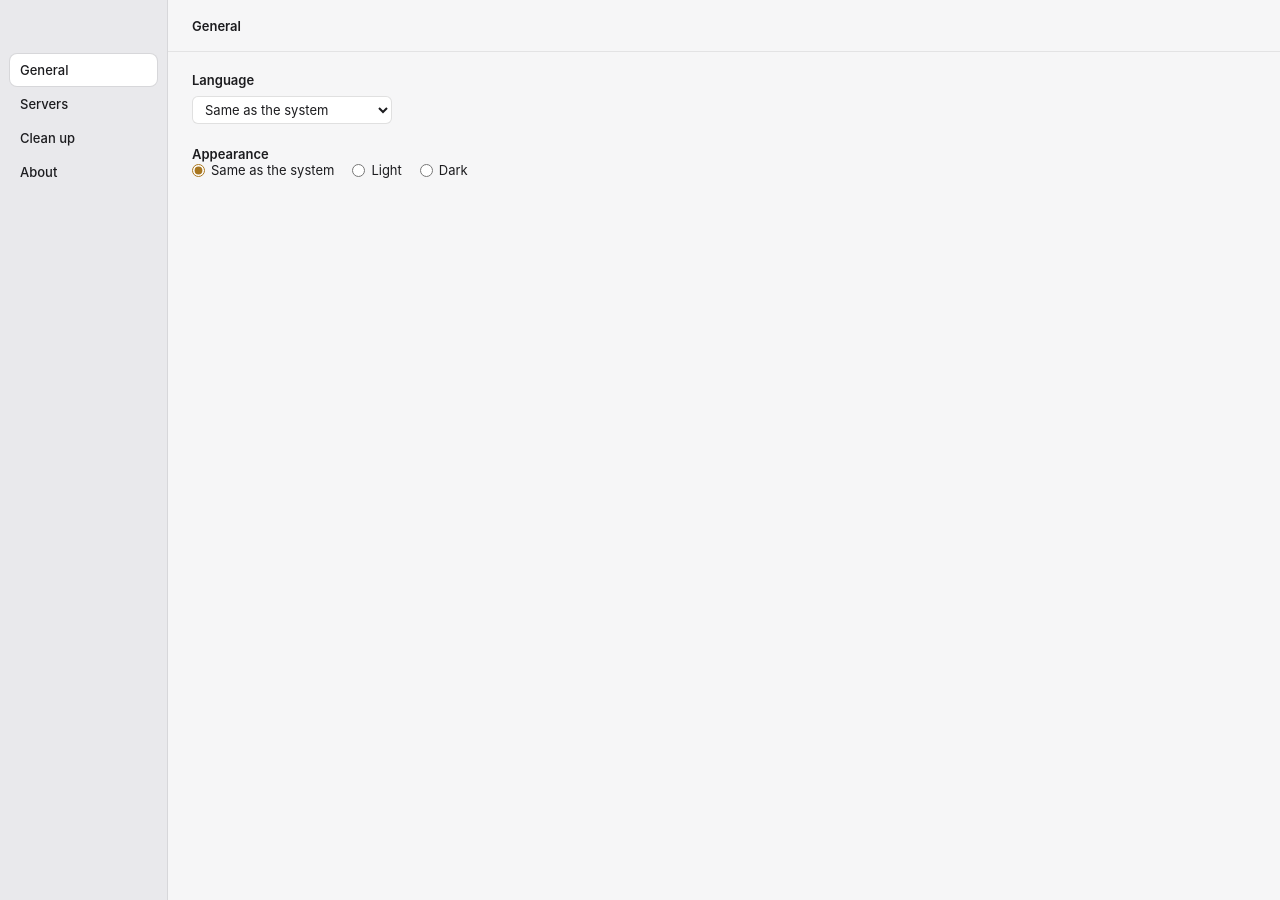
it: the settings window › says why a folder was turned down, and keeps what was typed
Expected: the heading "General" is shown, [192,18,241,34]
Click the button "Clean up": (84, 138) [10,122,157,154]
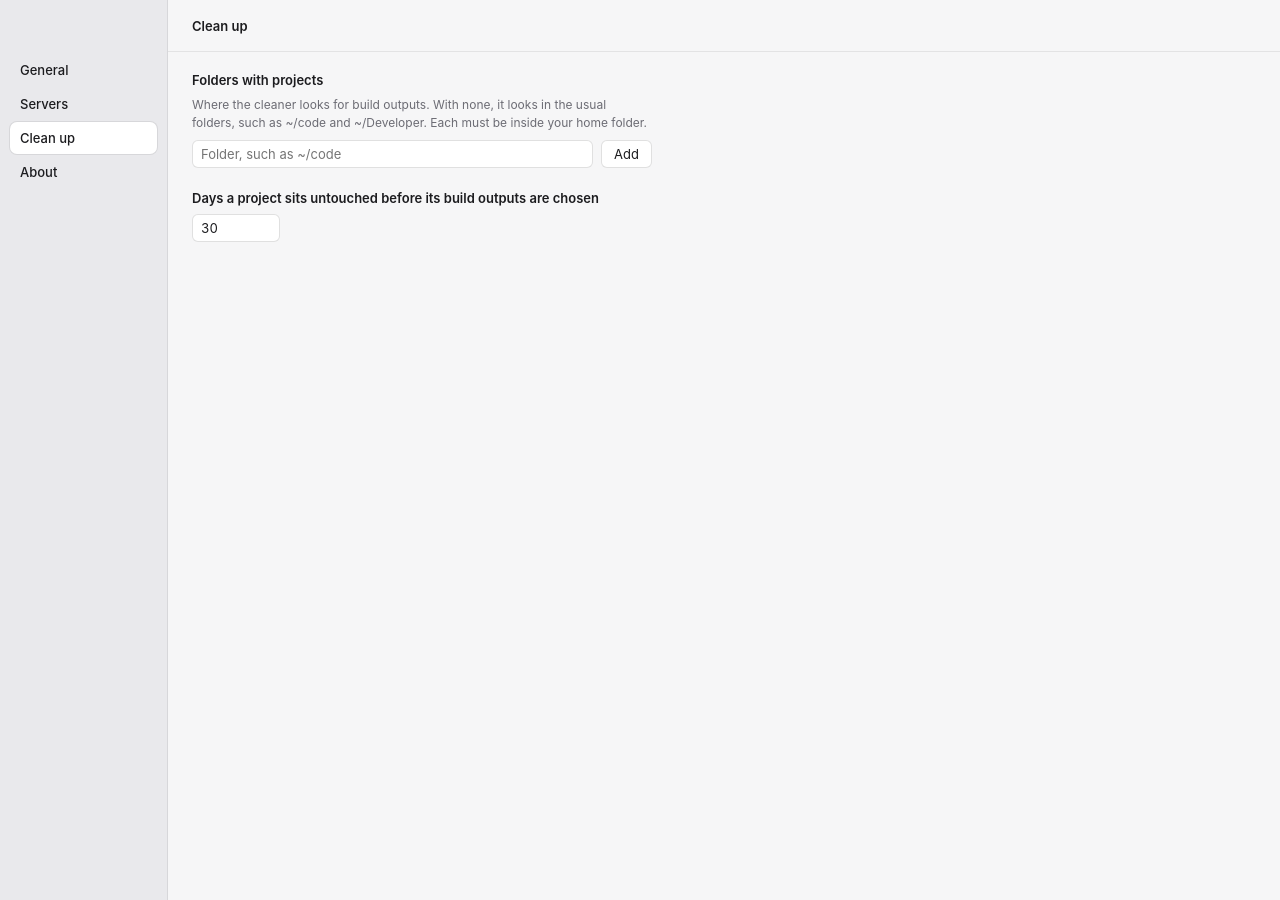
In the field labelled "Folder, such as ~/code": (393, 154) [192,140,593,168], type "/etc"
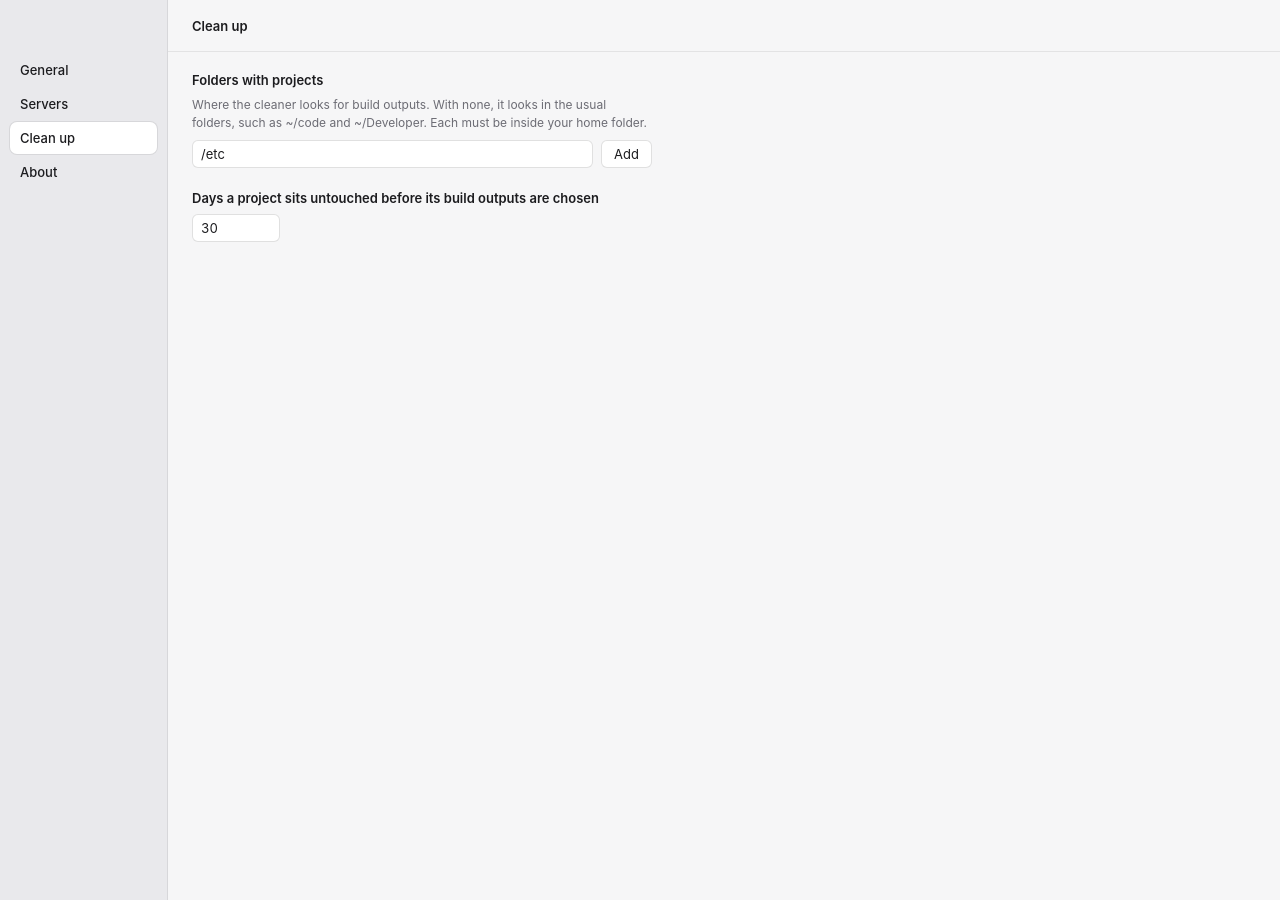
Click the button "Add": (627, 154) [601,140,652,168]
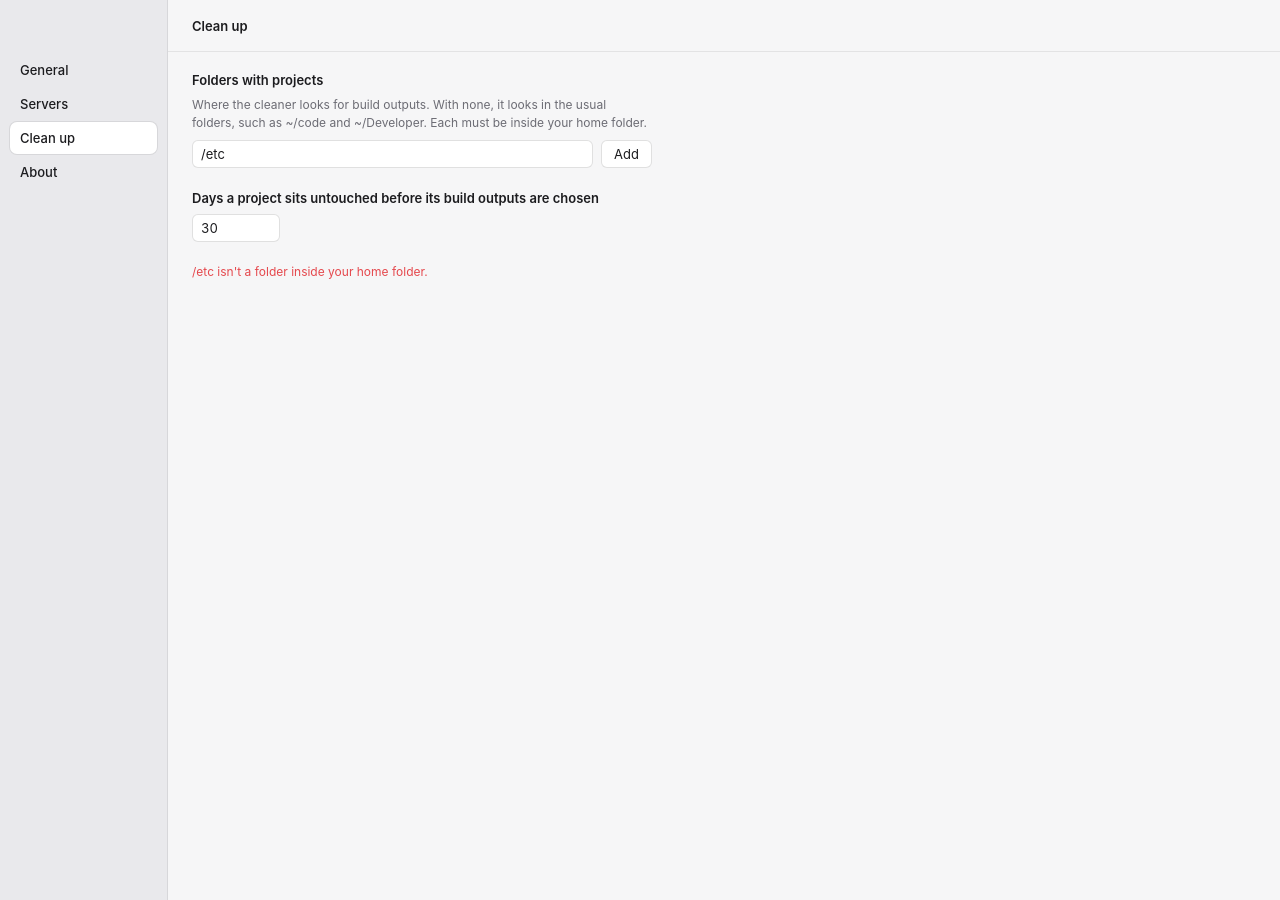
Now the message reads "/etc isn't a folder inside your home folder.", box [192,264,428,279]
